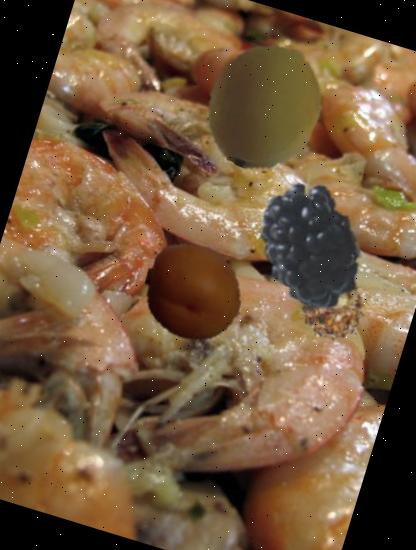Apricot: (132, 232, 254, 354)
Mulberry: (209, 162, 389, 341)
Peach: (182, 25, 346, 188)
Pineapple: (286, 264, 376, 354)
